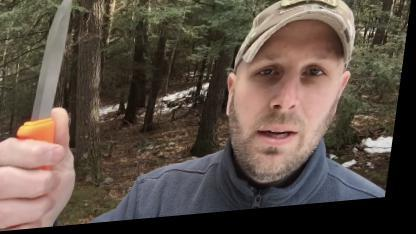knife: (0, 0, 104, 194)
